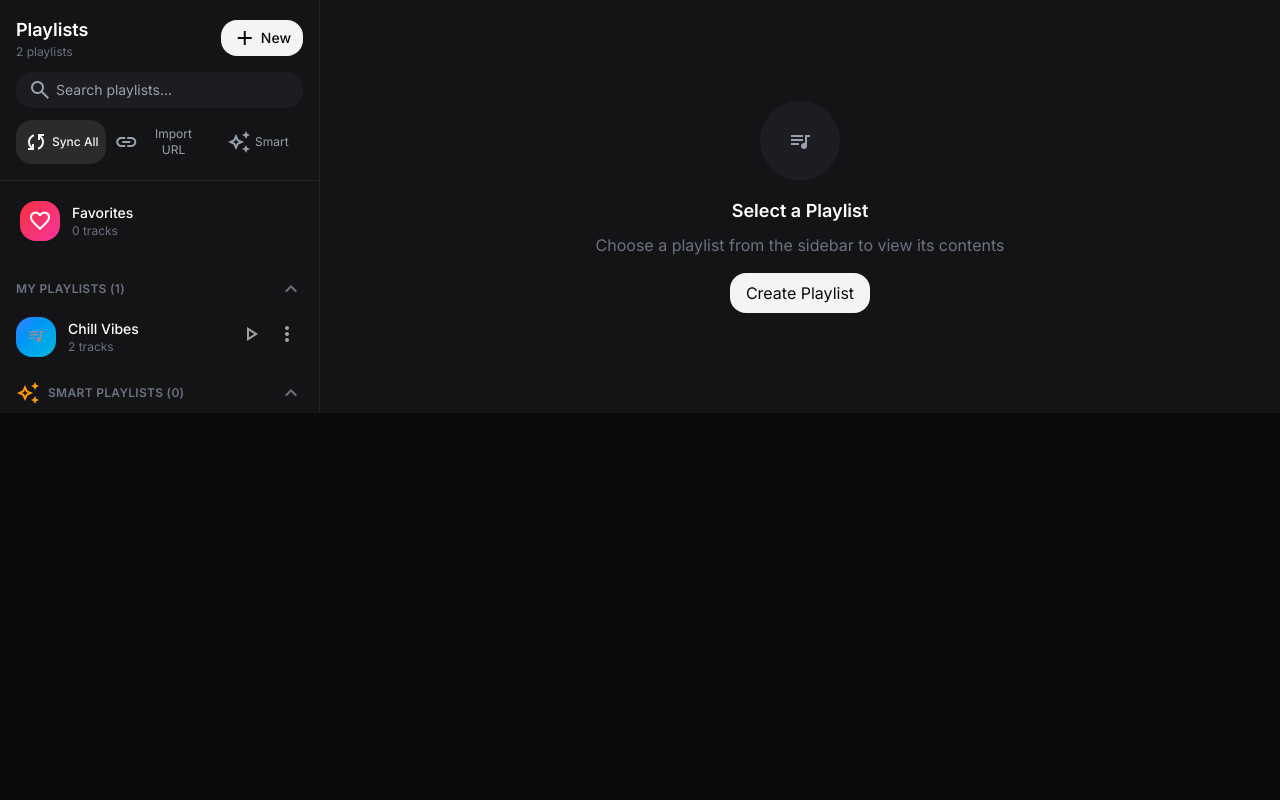
PlaylistView › Modo A exports verified-only M3U through save dialog and lists missing tracks
Click the element with class "group": click(36, 337) top-left (8, 309), bottom-right (311, 365)
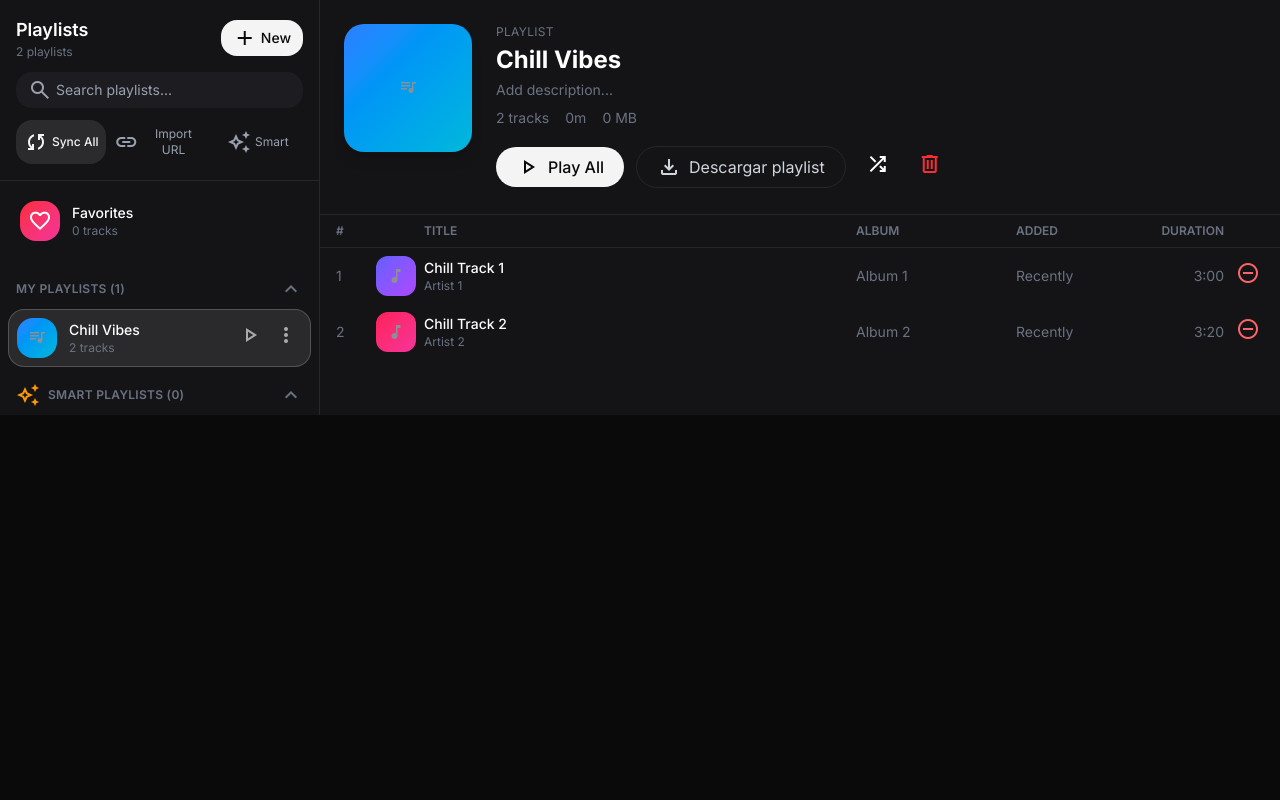
Expected: the button "Descargar playlist" is shown
Click the button "Descargar playlist": click(741, 167) top-left (636, 146), bottom-right (846, 188)
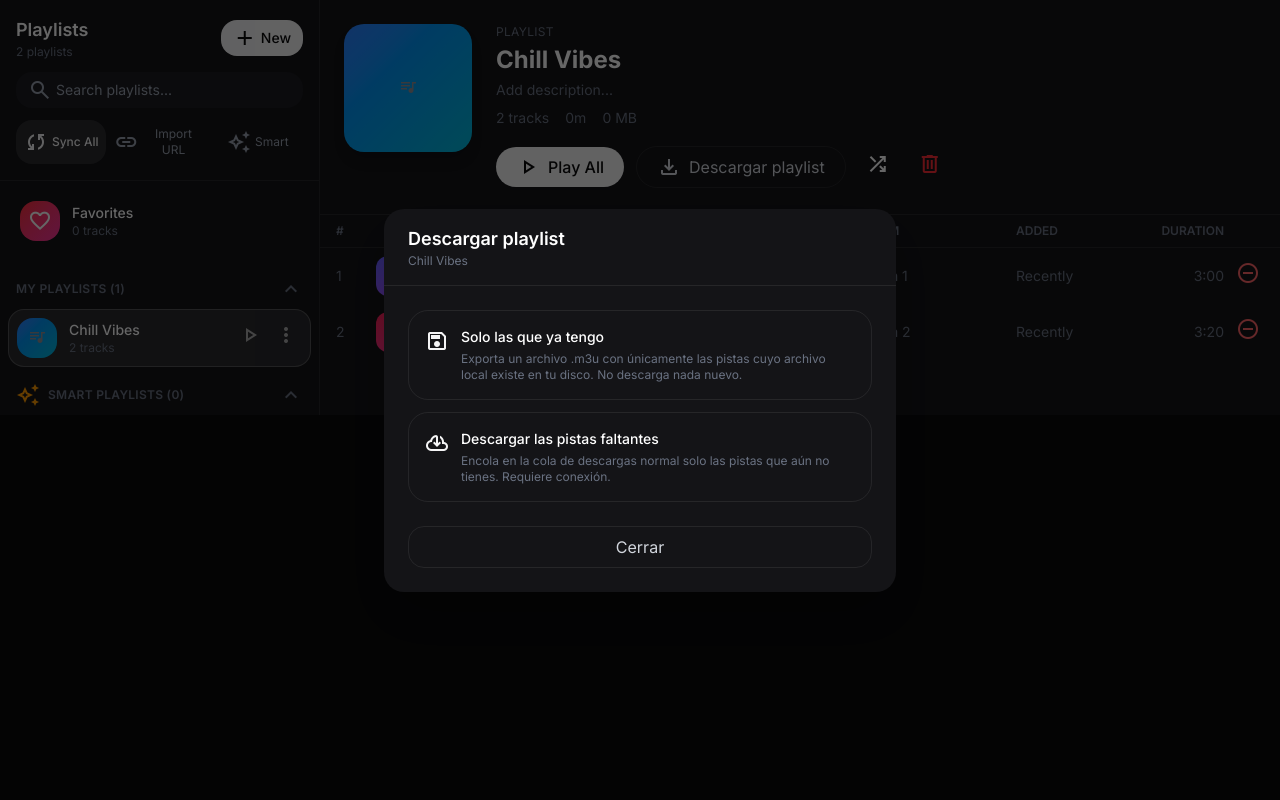
Expected: the button that starts with "Solo las que ya tengo" is shown
Click the button that starts with "Solo las que ya tengo": click(640, 354) top-left (408, 310), bottom-right (872, 400)
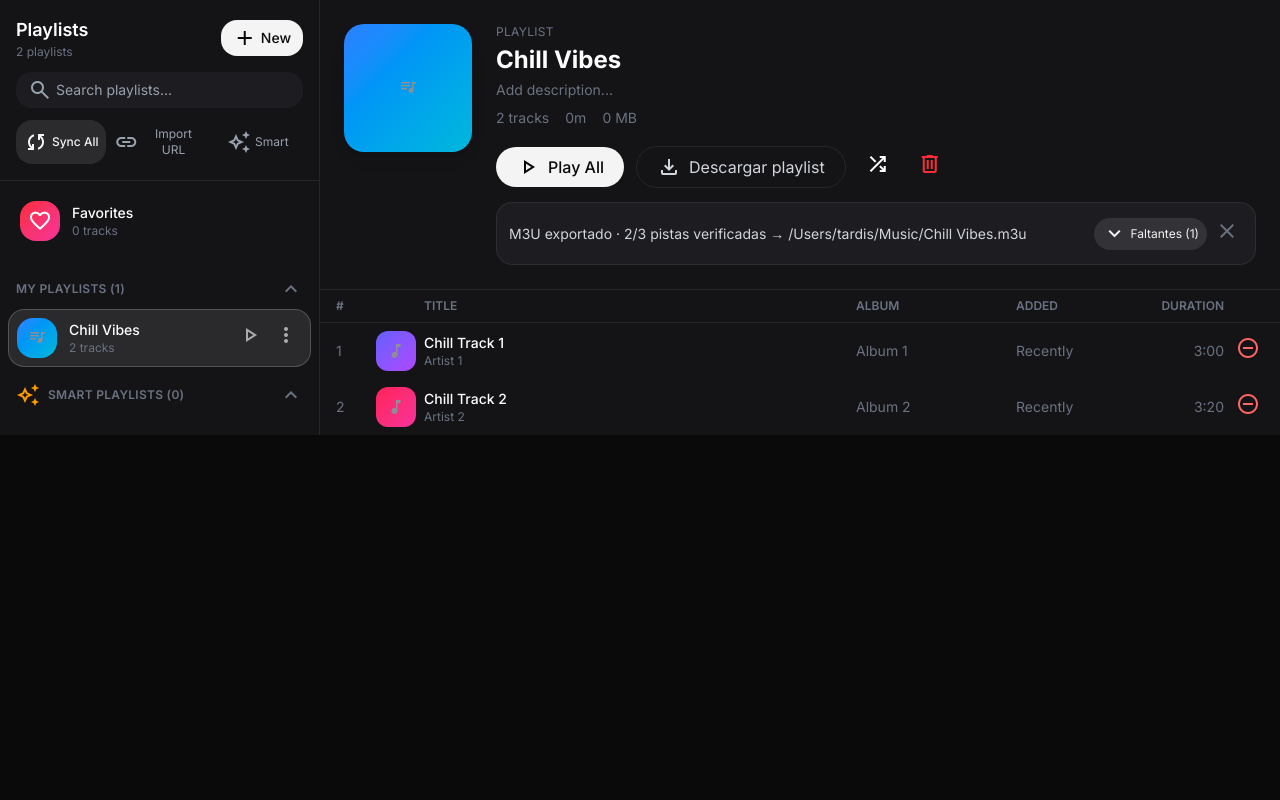
Expected: the text "M3U exportado · 2/3 pistas verificadas" is shown, top-left (509, 224), bottom-right (766, 242)
Expected: the button "Faltantes (1)" is shown
Click the button "Faltantes (1)": click(1151, 234) top-left (1094, 218), bottom-right (1207, 250)
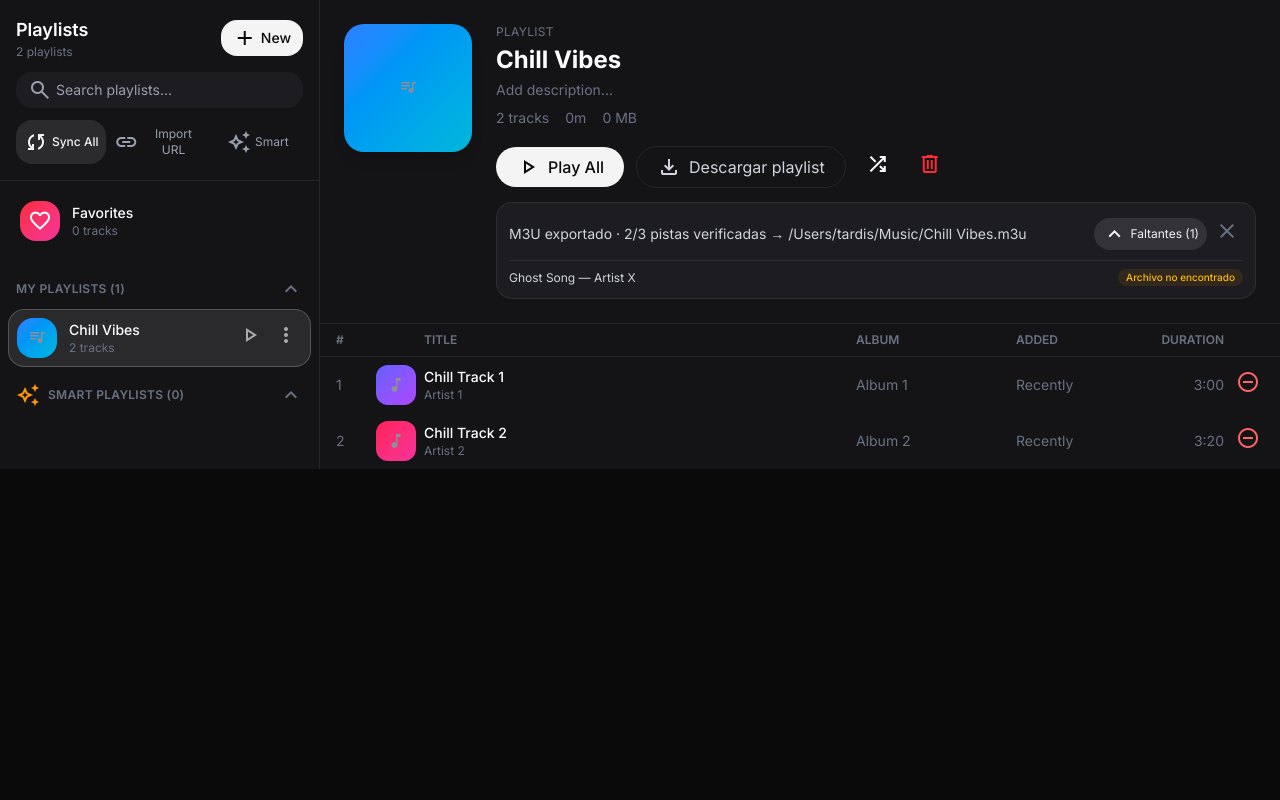
Expected: the text "Ghost Song" is shown, top-left (509, 270), bottom-right (575, 285)
Expected: the text "Archivo no encontrado" is shown, top-left (1118, 269), bottom-right (1243, 286)
